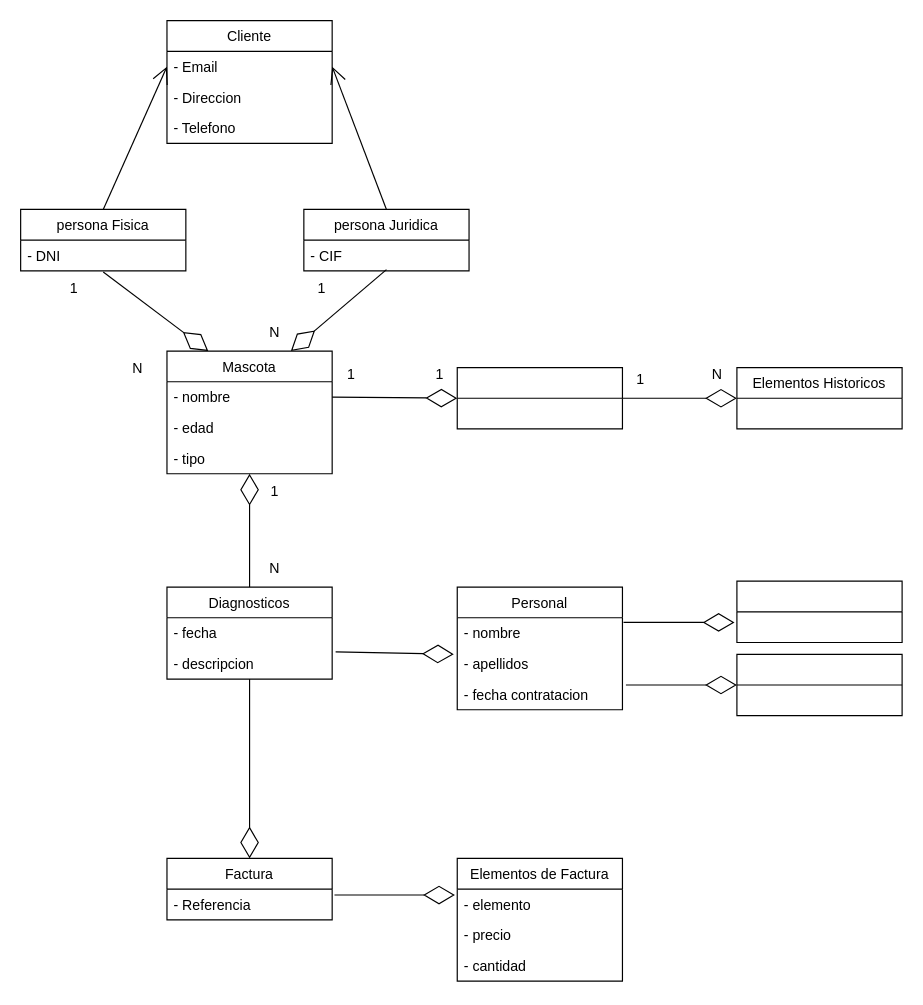
The diagram is 923 pixels wide and 1005 high, and some of its shapes have lost their labels. Each missing label, with the centre of its shape:
"Auxiliar" belongs at (819,684).
"Ref Historico" belongs at (539,397).
"Veterinario" belongs at (819,611).
